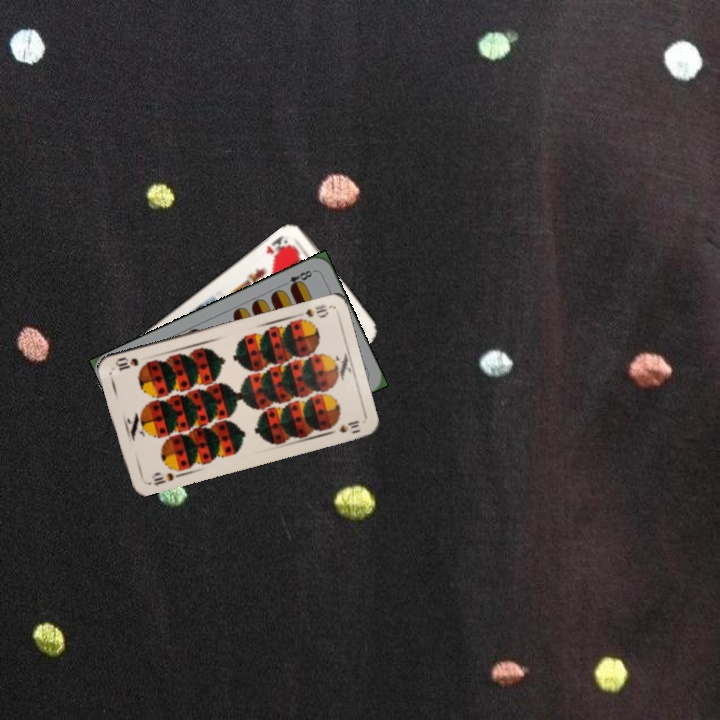E8: (278, 266, 317, 292)
HK: (262, 231, 293, 260)
S10: (143, 468, 176, 488), (301, 300, 333, 320)
